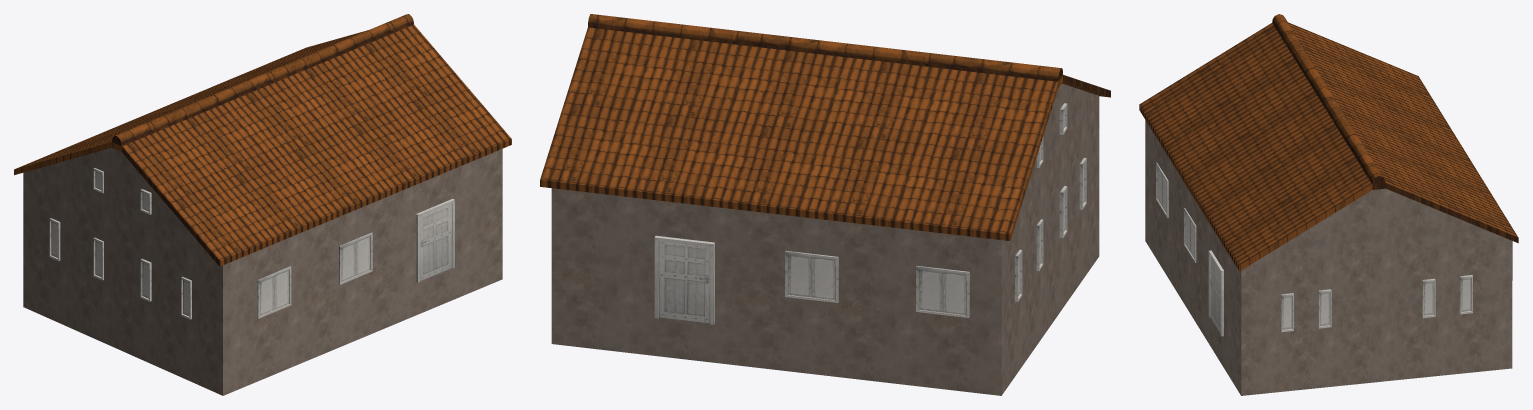
File: Casa_24.fbx
The picture shows the model from 3 angles, left to right: view 1: azimuth 30°, elevation 25°; view 2: azimuth 150°, elevation 25°; view 3: azimuth 270°, elevation 25°; orthographic projection. The views are drawn at different scales.
Visible parts, largest first — view 1: Casa_24; view 2: Casa_24; view 3: Casa_24.
Boxes of the visible parts, x1,y1,x2,y2 form: Casa_24: (14,14,511,395); Casa_24: (540,14,1110,395); Casa_24: (1139,14,1518,395).
Bounding box in the file's own units: 12.52 × 6.46 × 10.56.
